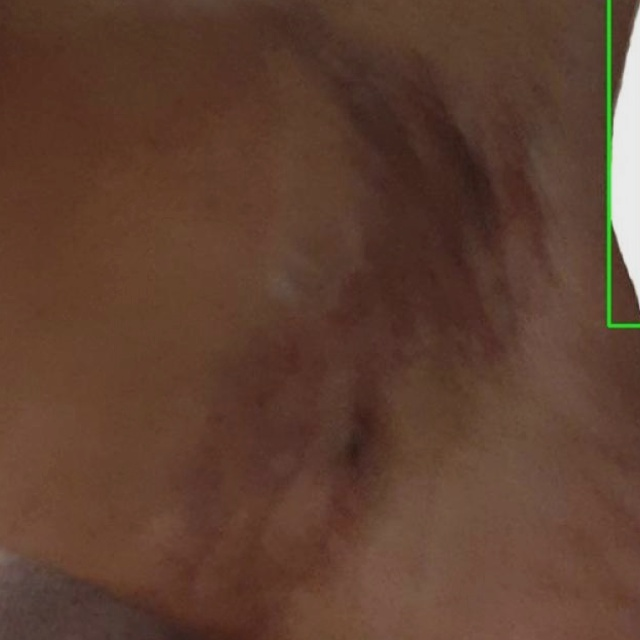Contact Dermatitis: (609, 0, 639, 325)
